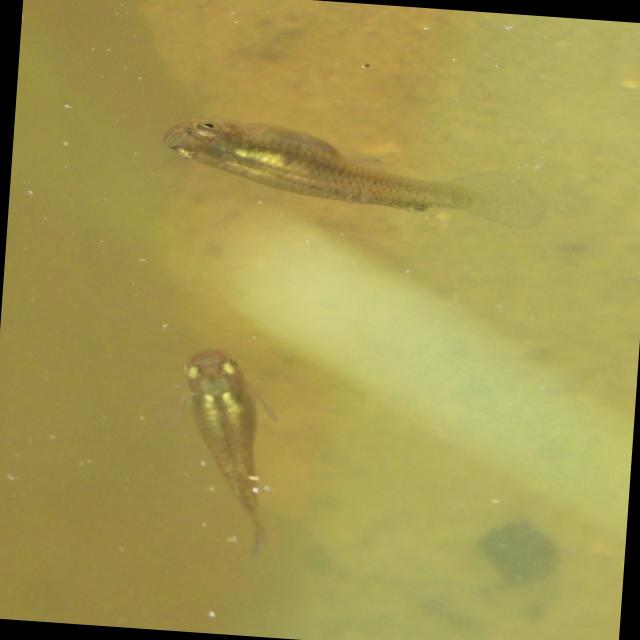Sivrisinek Baligi: (156, 111, 552, 232), (160, 331, 296, 560)
